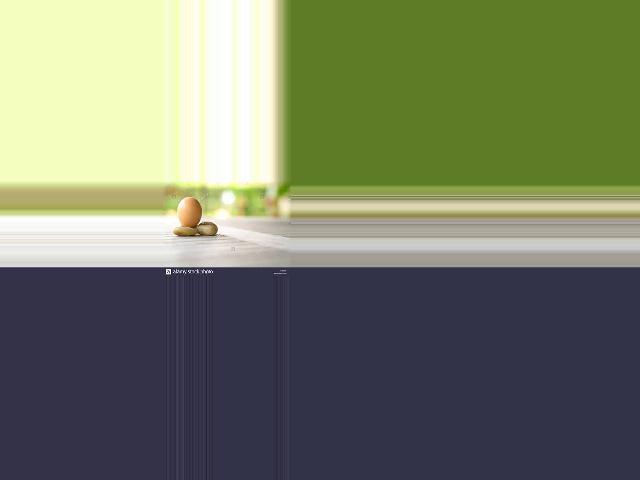egg: (177, 197, 202, 227)
